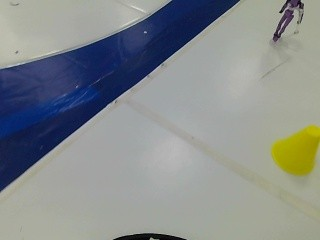cone: (267, 124, 318, 184)
pedestrian: (269, 0, 305, 47)
